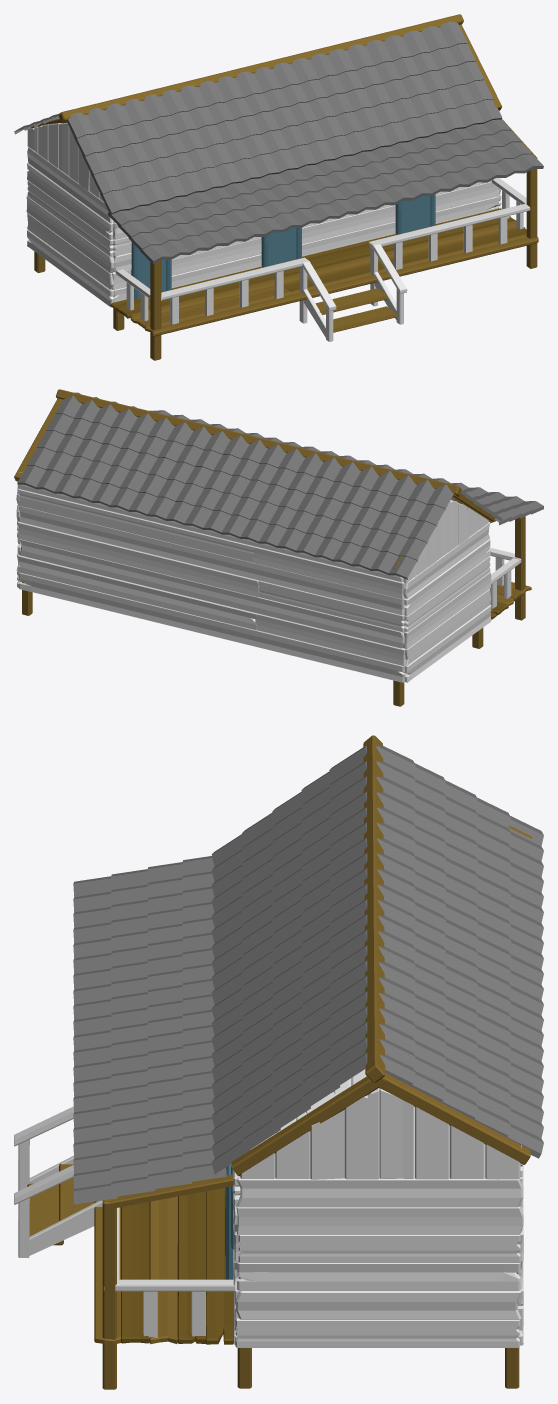
Rendered from escolaLow.fbx.
3 views of the same model, one above another, from view 1: azimuth 30°, elevation 25°; view 2: azimuth 150°, elevation 25°; view 3: azimuth 270°, elevation 25° (orthographic). The views are drawn at different scales.
Visible parts, largest first — view 1: estrutura.129, newTelha.036, newTelha.033, newTelha.034, newTelha.035, newTelha.037, newTelha.043, newTelha.044, Base.002, newTelha.045, newTelha.046, Escada (+7 smaller); view 2: estrutura.129, newTelha.032, newTelha.038, newTelha.039, newTelha.041, newTelha.040, Base.002, newTelha.043, madVaranda, newTelha.044; view 3: estrutura.129, Base.002, newTelha.043, newTelha.044, newTelha.036, newTelha.045, newTelha.038, newTelha.032, newTelha.041, newTelha.039, newTelha.040, newTelha.046 (+7 smaller).
Boxes of the visible parts, x1,y1,x2,y2 form: estrutura.129: [26, 110, 538, 336]; newTelha.036: [66, 21, 467, 139]; newTelha.033: [100, 99, 502, 214]; newTelha.034: [91, 80, 493, 195]; newTelha.035: [82, 61, 484, 176]; newTelha.037: [73, 43, 475, 157]; newTelha.043: [140, 154, 543, 263]; newTelha.044: [128, 142, 532, 251]; Base.002: [27, 14, 537, 360]; newTelha.045: [118, 130, 521, 239]; newTelha.046: [107, 119, 511, 227]; Escada: [299, 244, 407, 341]; estrutura.129: [16, 472, 531, 682]; newTelha.032: [17, 465, 418, 579]; newTelha.038: [27, 447, 428, 561]; newTelha.039: [37, 430, 437, 543]; newTelha.041: [55, 395, 453, 510]; newTelha.040: [46, 414, 447, 526]; Base.002: [14, 389, 525, 706]; newTelha.043: [153, 410, 543, 514]; madVaranda: [489, 547, 521, 584]; newTelha.044: [464, 491, 532, 518]; estrutura.129: [94, 1069, 523, 1347]; Base.002: [102, 735, 532, 1389]; newTelha.043: [73, 876, 117, 1207]; newTelha.044: [111, 869, 155, 1197]; newTelha.036: [329, 745, 367, 1093]; newTelha.045: [147, 862, 191, 1190]; newTelha.038: [474, 797, 510, 1137]; newTelha.032: [507, 816, 543, 1158]; newTelha.041: [376, 745, 415, 1086]; newTelha.039: [442, 780, 477, 1119]; newTelha.040: [411, 763, 445, 1102]; newTelha.046: [182, 856, 226, 1185].
Bounding box in the file's own units: 1437 × 663 × 971.
